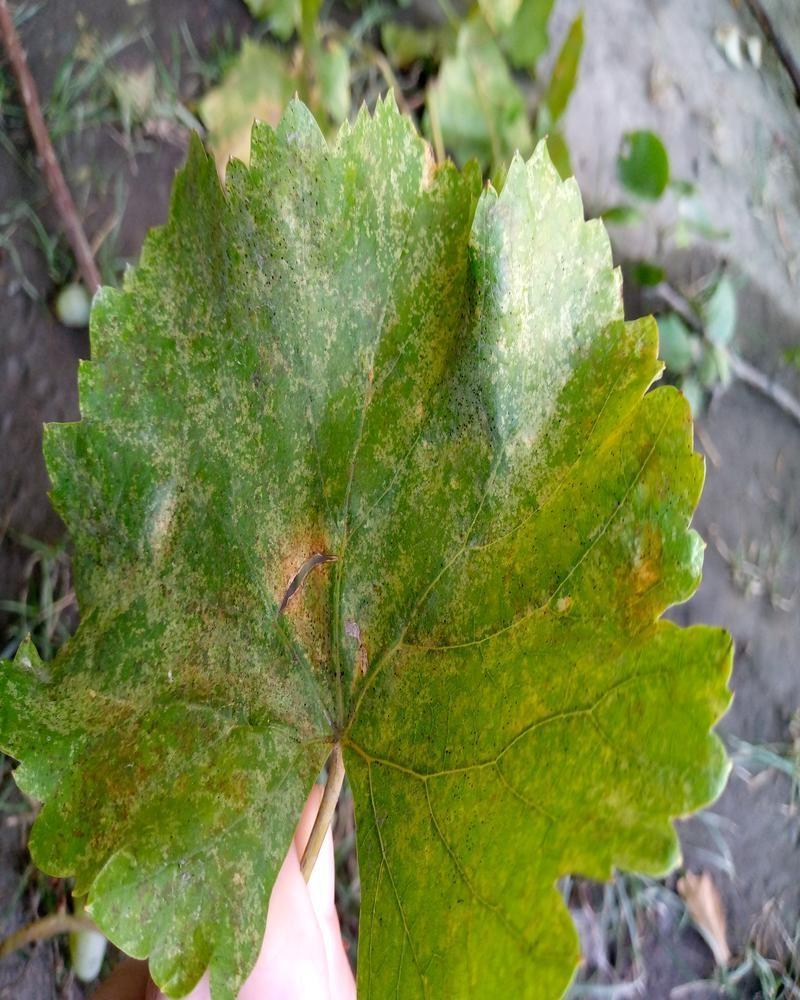Powdery-Mildew: (468, 170, 631, 420), (271, 239, 417, 398), (66, 682, 193, 838), (256, 525, 340, 686), (600, 528, 684, 663), (133, 450, 218, 574), (488, 108, 540, 130)
